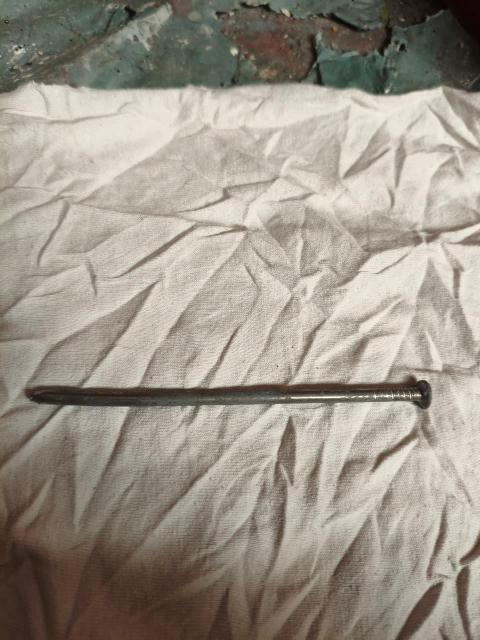Metal: (32, 350, 435, 423)
